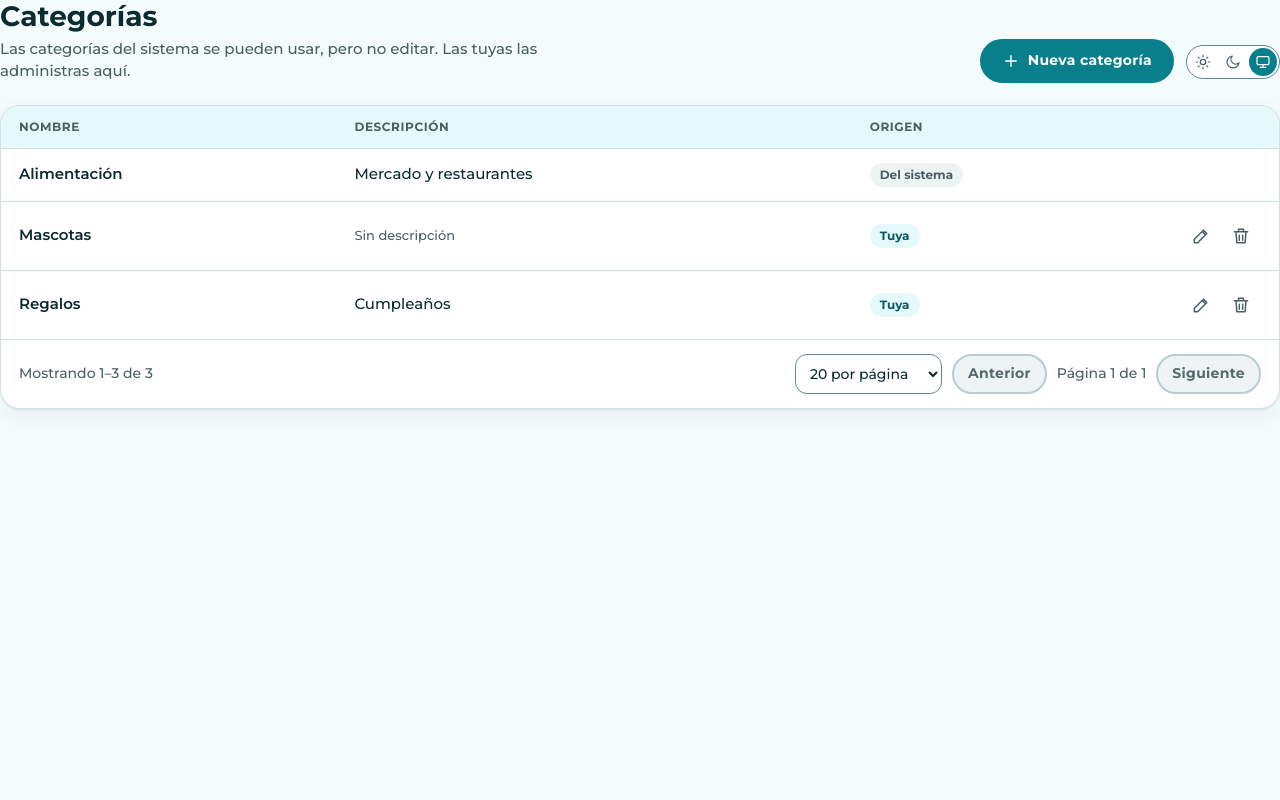
Test: Categorías: edit › opens with the current values and sends the change with PATCH
The width and height of the screenshot is (1280, 800).
Expected: the text "Mascotas" is shown, [19, 225, 91, 244]
Click the button named "Editar Mascotas" at (1201, 236), box [1181, 216, 1221, 256]
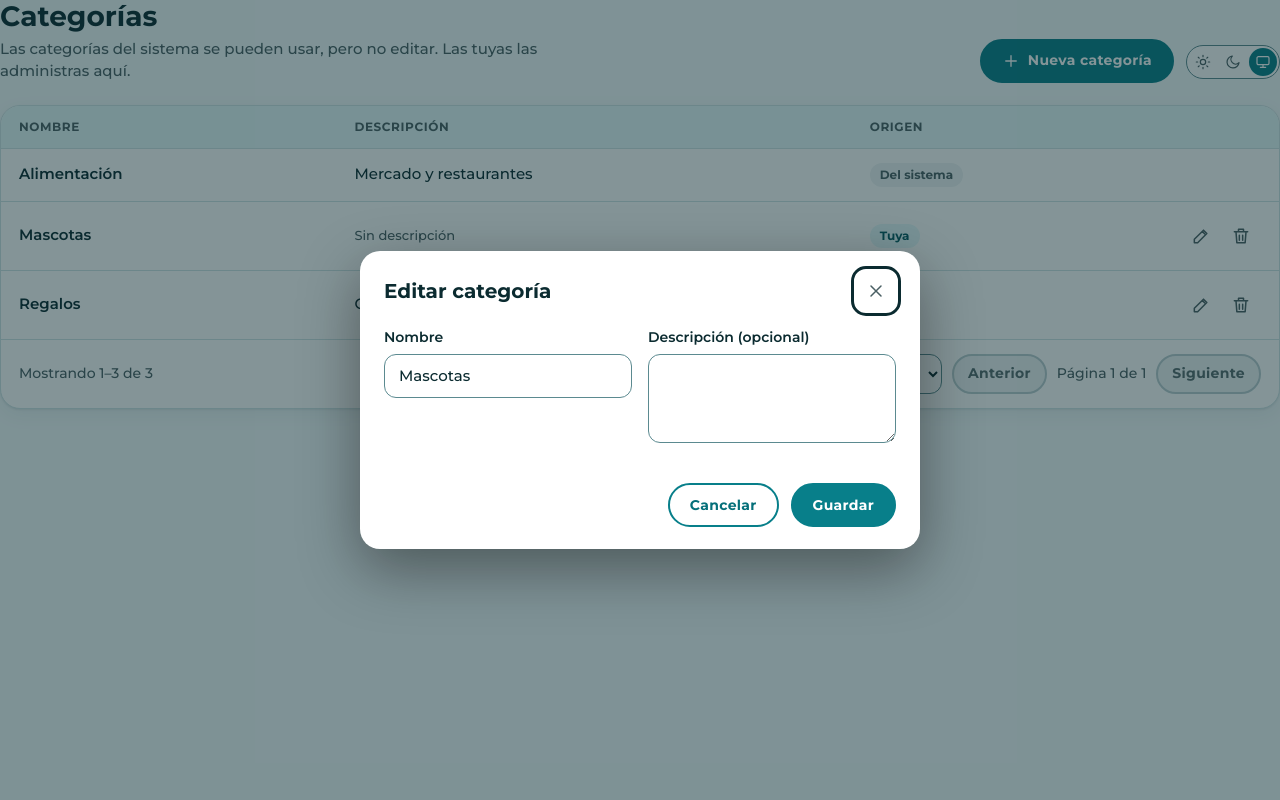
Expected: the field labelled "Nombre" holds "Mascotas", [384, 354, 632, 398]
Expected: the text box labelled "Descripción (opcional)" is empty
Type "Comida y veterinario" into the text box labelled "Descripción (opcional)" at (772, 399), box [648, 354, 896, 443]
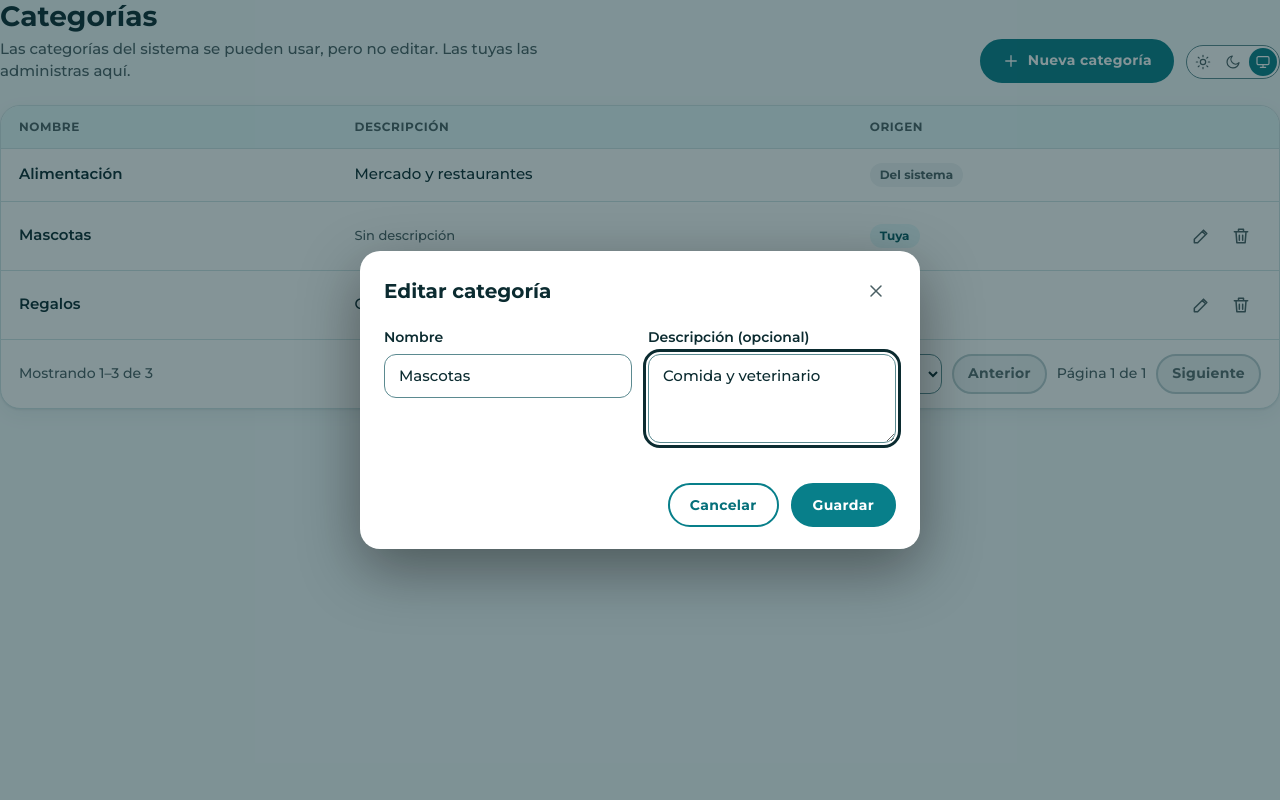
Click the button "Guardar" at (843, 505), box [791, 483, 896, 527]
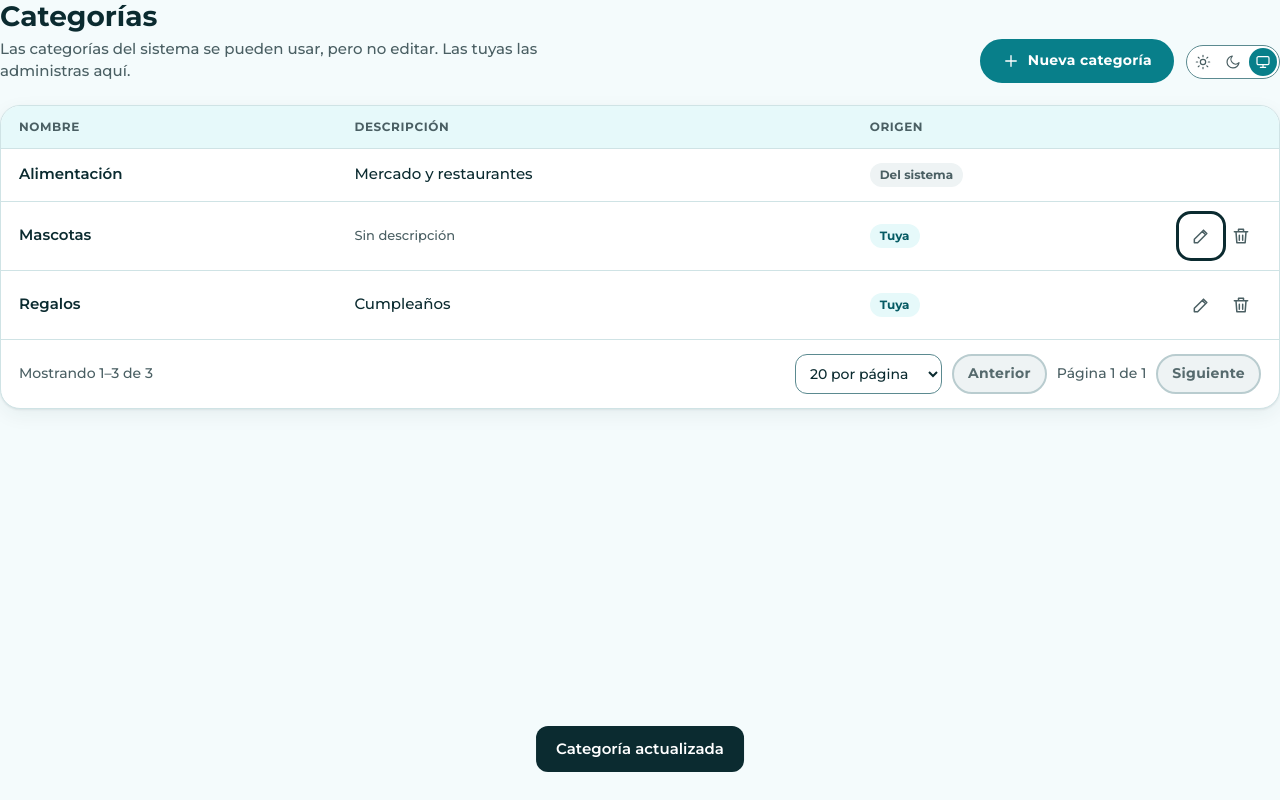
Expected: the text "Categoría actualizada" is shown, [536, 726, 744, 772]
